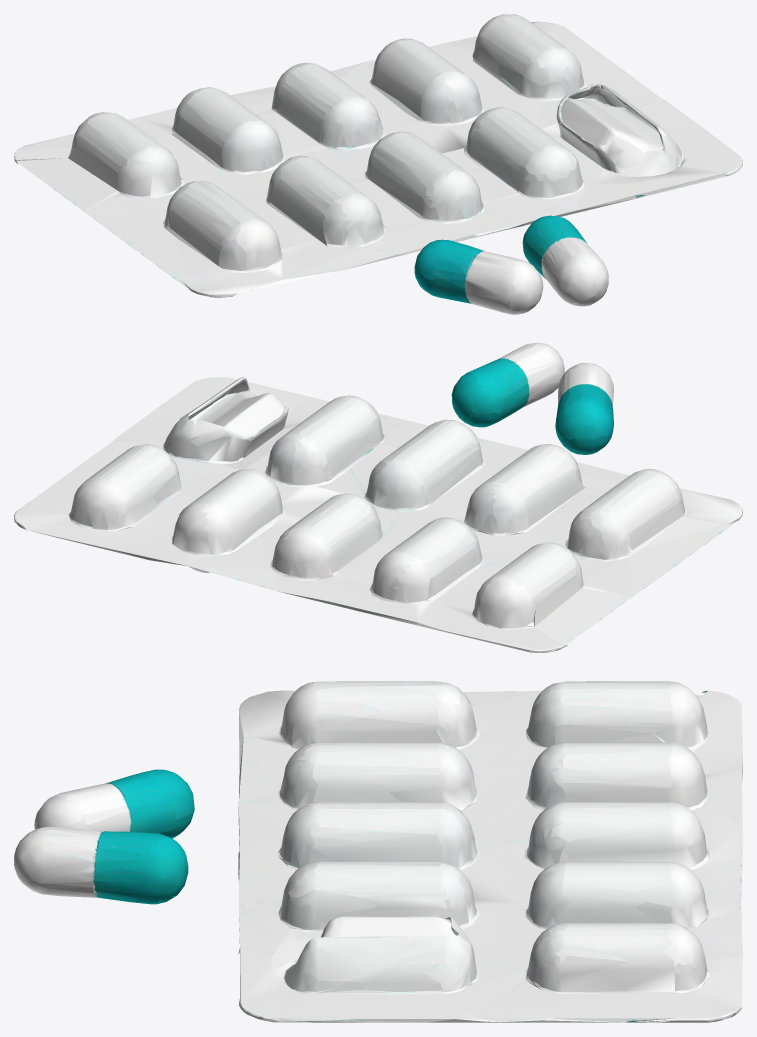
File: pills.glb
3 views of the same model, one above another, from view 1: azimuth 30°, elevation 25°; view 2: azimuth 150°, elevation 25°; view 3: azimuth 270°, elevation 25° (orthographic). The views are drawn at different scales.
Visible parts, largest first — view 1: Mesh_0; view 2: Mesh_0; view 3: Mesh_0.
Part boxes in pixels (x1=…): Mesh_0: x1=14, y1=14, x2=742, y2=314; Mesh_0: x1=14, y1=343, x2=742, y2=652; Mesh_0: x1=14, y1=681, x2=742, y2=1022.
Bounding box in the file's own units: 1.9 × 0.2254 × 1.78.
Materials: 1 (1 with a texture image).
